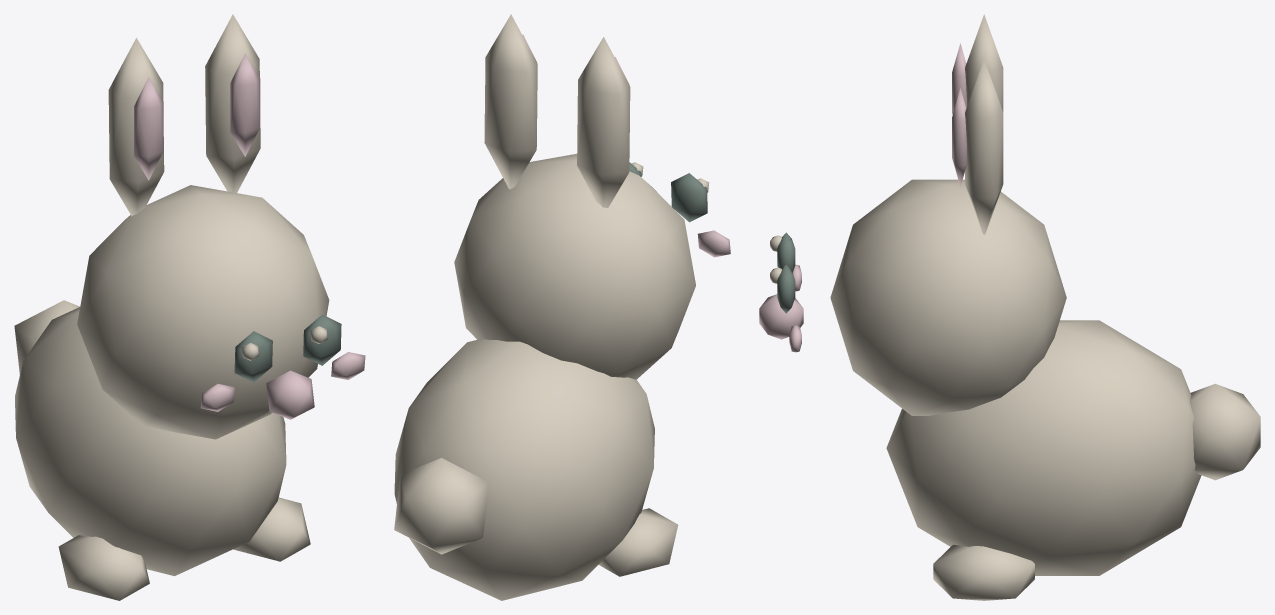
Rendered from npc_rabbit.glb.
3 views of the same model, side by side, from view 1: azimuth 30°, elevation 25°; view 2: azimuth 150°, elevation 25°; view 3: azimuth 270°, elevation 25° (orthographic). The views are drawn at different scales.
Parts seen in each view (by area): view 1: npc_rabbit; view 2: npc_rabbit; view 3: npc_rabbit.
Boxes of the visible parts, bbox=[...] form: npc_rabbit: bbox=[14, 14, 365, 600]; npc_rabbit: bbox=[394, 14, 730, 600]; npc_rabbit: bbox=[759, 14, 1260, 600].
Bounding box in the file's own units: 0.2176 × 0.4983 × 0.423.
